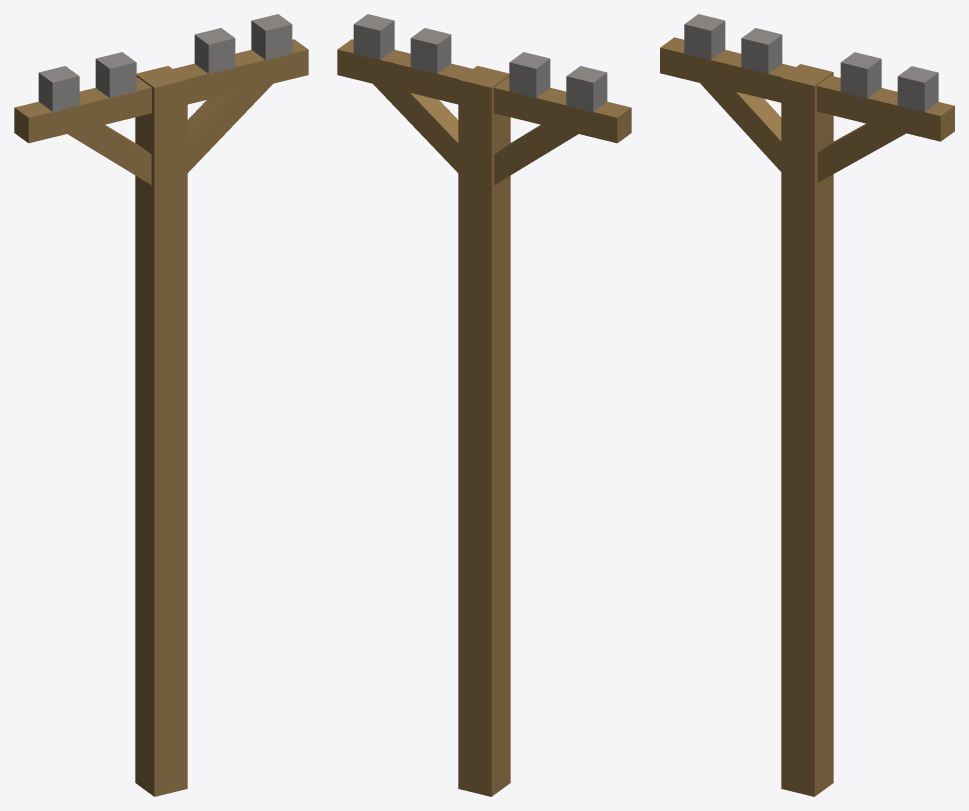
The model's file is Electric_Pole.fbx.
3 views of the same model, side by side, from view 1: azimuth 30°, elevation 25°; view 2: azimuth 150°, elevation 25°; view 3: azimuth 330°, elevation 25° (orthographic).
Parts seen in each view (by area): view 1: Electric_pole; view 2: Electric_pole; view 3: Electric_pole.
Part boxes in pixels (bbox=[...]): Electric_pole: bbox=[14, 14, 308, 796]; Electric_pole: bbox=[337, 14, 631, 796]; Electric_pole: bbox=[660, 14, 954, 796].
Bounding box in the file's own units: 3.06 × 7.7 × 0.3622.
